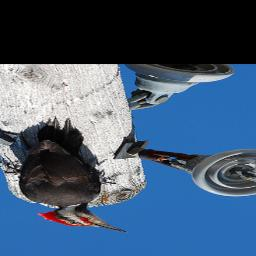Woodpecker: (0, 118, 137, 234)
